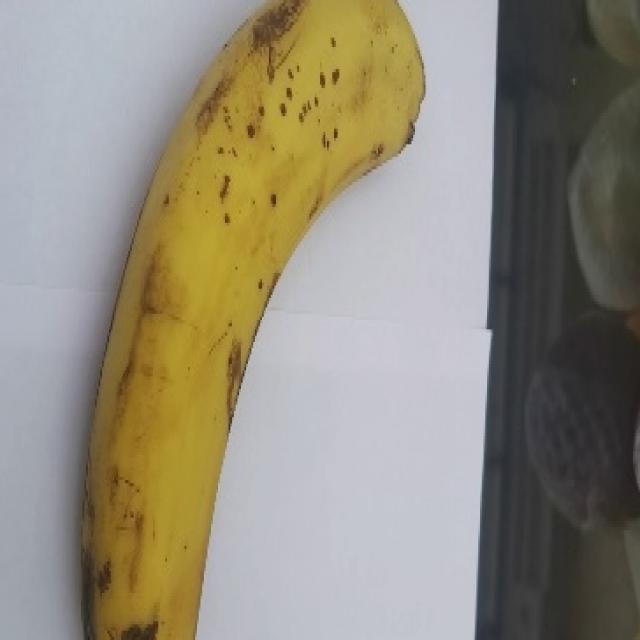Banana: (86, 0, 429, 638)
